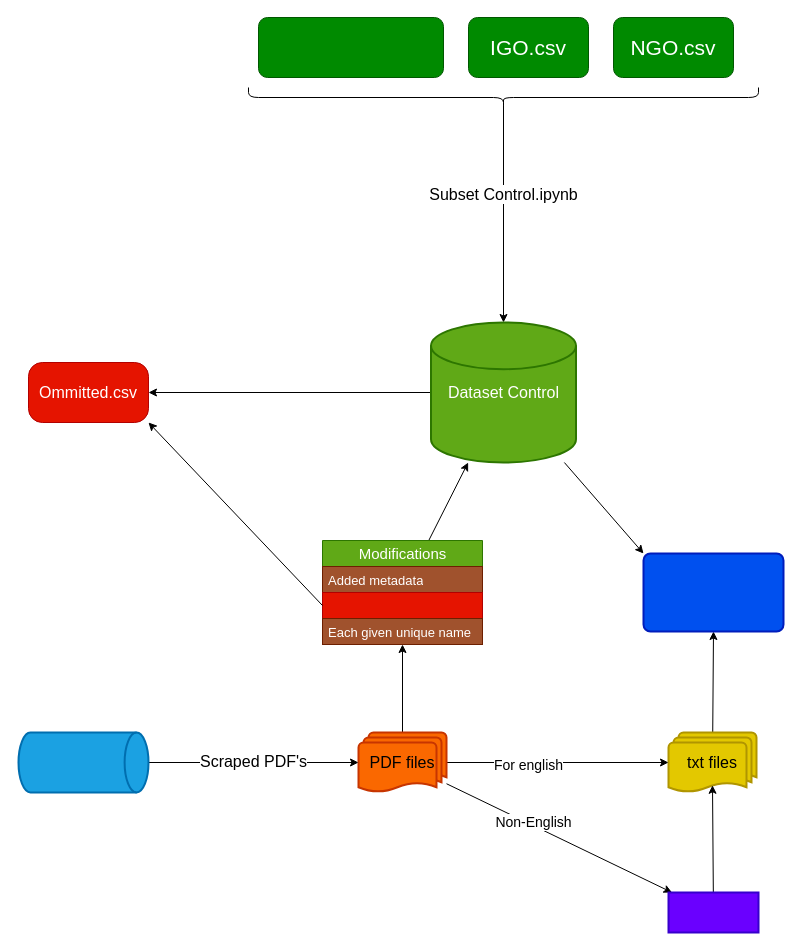
This 801x951 diagram has some shape labels left out. Each missing label, with the centre of its shape:
"Country_speech.csv" belongs at pixel 351 47.
"DeepL Translation" belongs at pixel 713 912.
"detected broken speeches" belongs at pixel 402 605.
"Label-Studio" belongs at pixel 713 592.
"UNFCCC Website" belongs at pixel 83 762.
